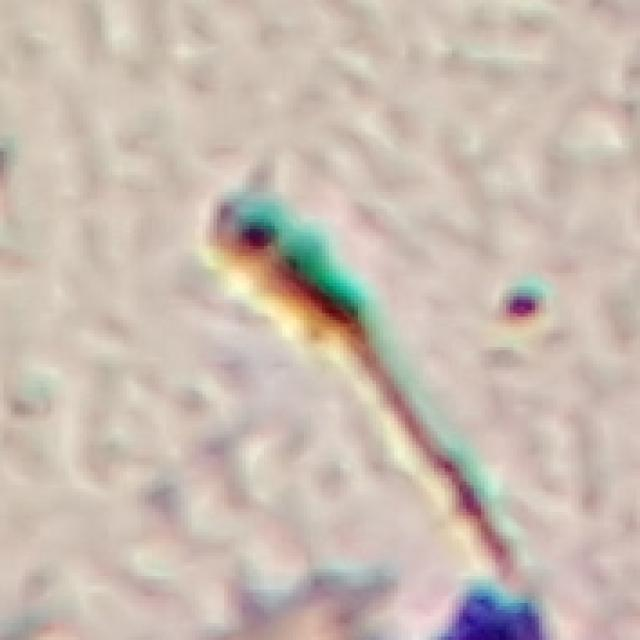non-sperm: (195, 188, 522, 549)
